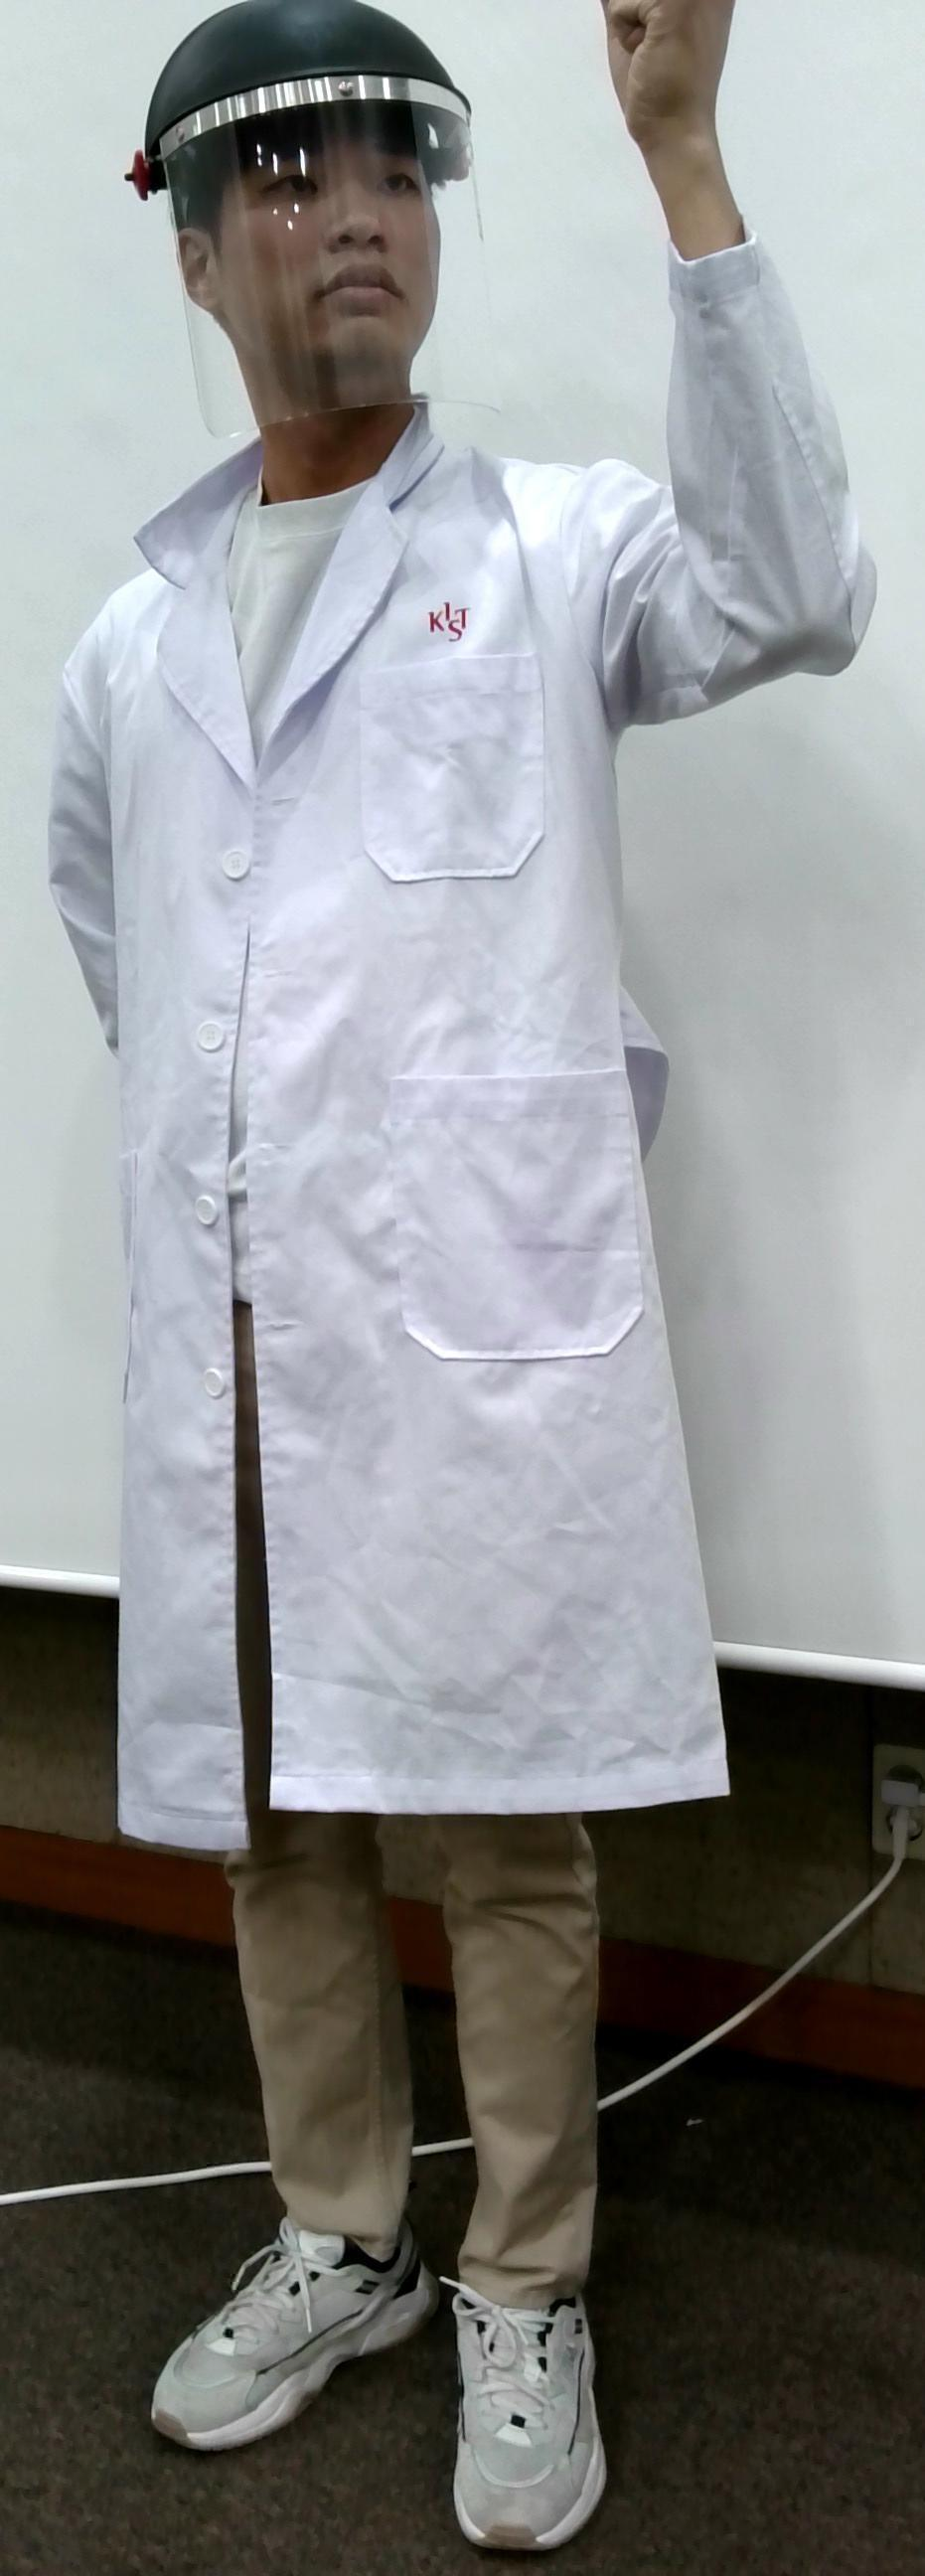lab_coat: (46, 468, 751, 1796)
